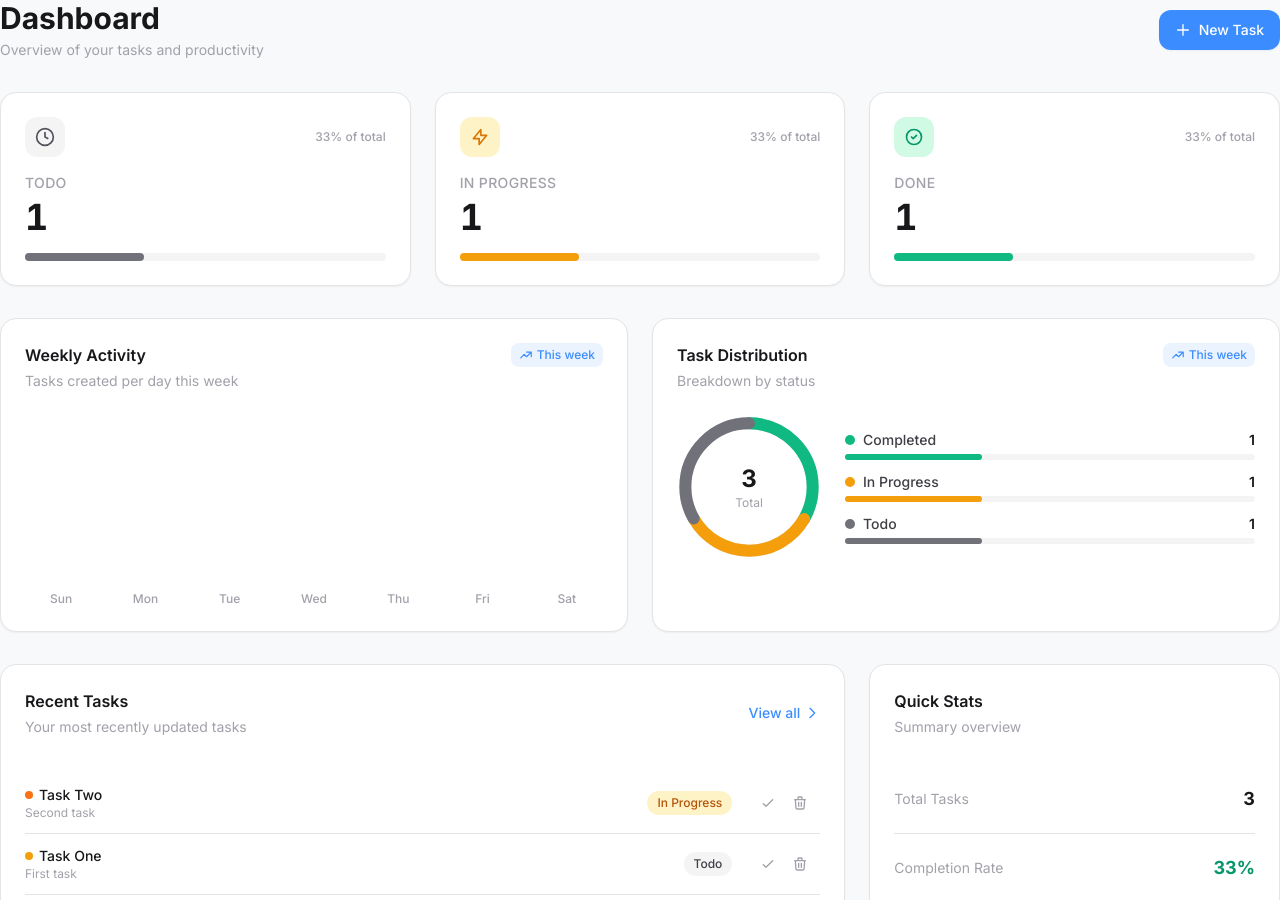
it: Dashboard Component › closes confirmation dialog when cancel is clicked
This screenshot has width=1280, height=900.
Click the button titled "Delete" in the row of "Task Two".
click(800, 803)  # box 786,789 -> 814,817
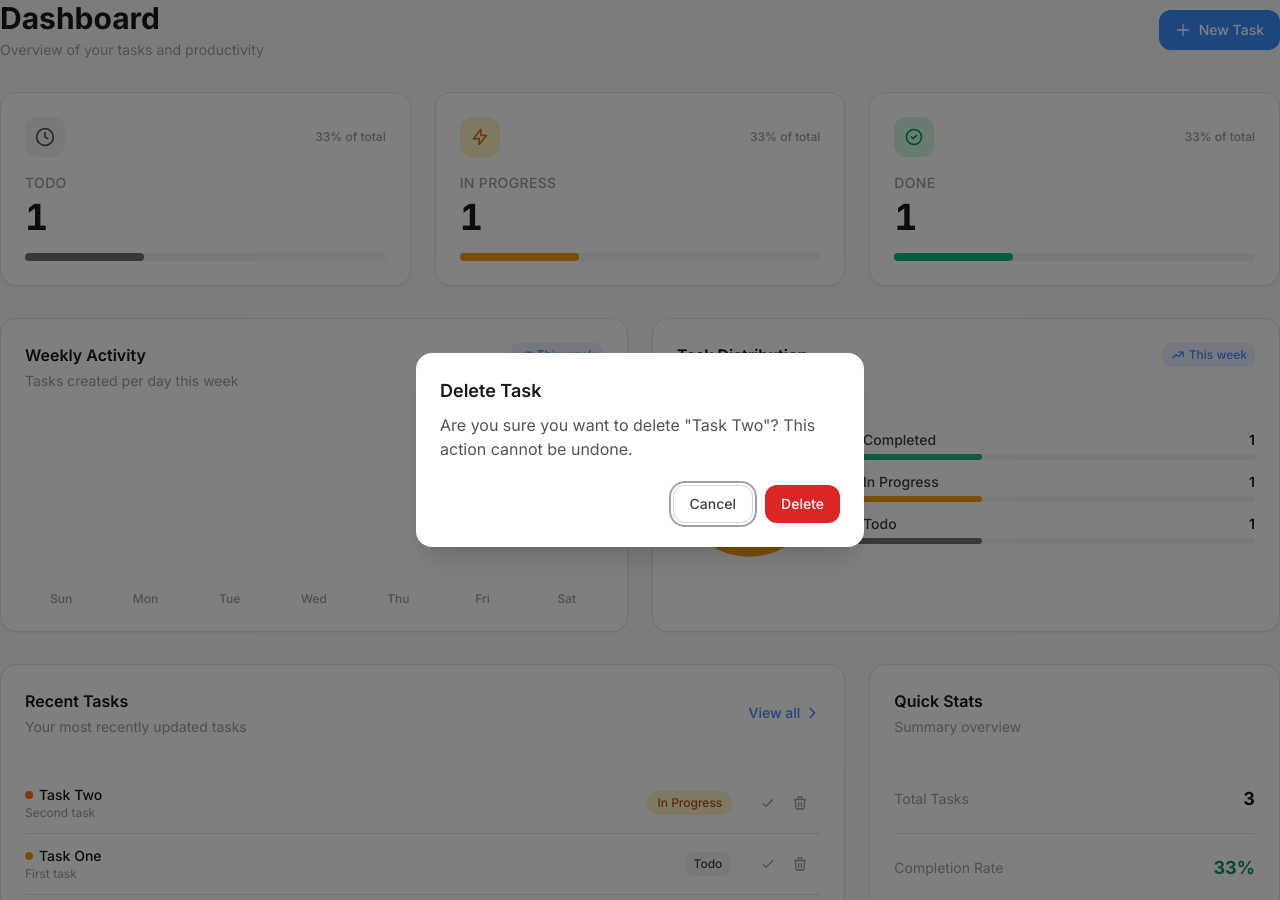
Click the button "Cancel".
click(713, 504)  # box 673,485 -> 753,523
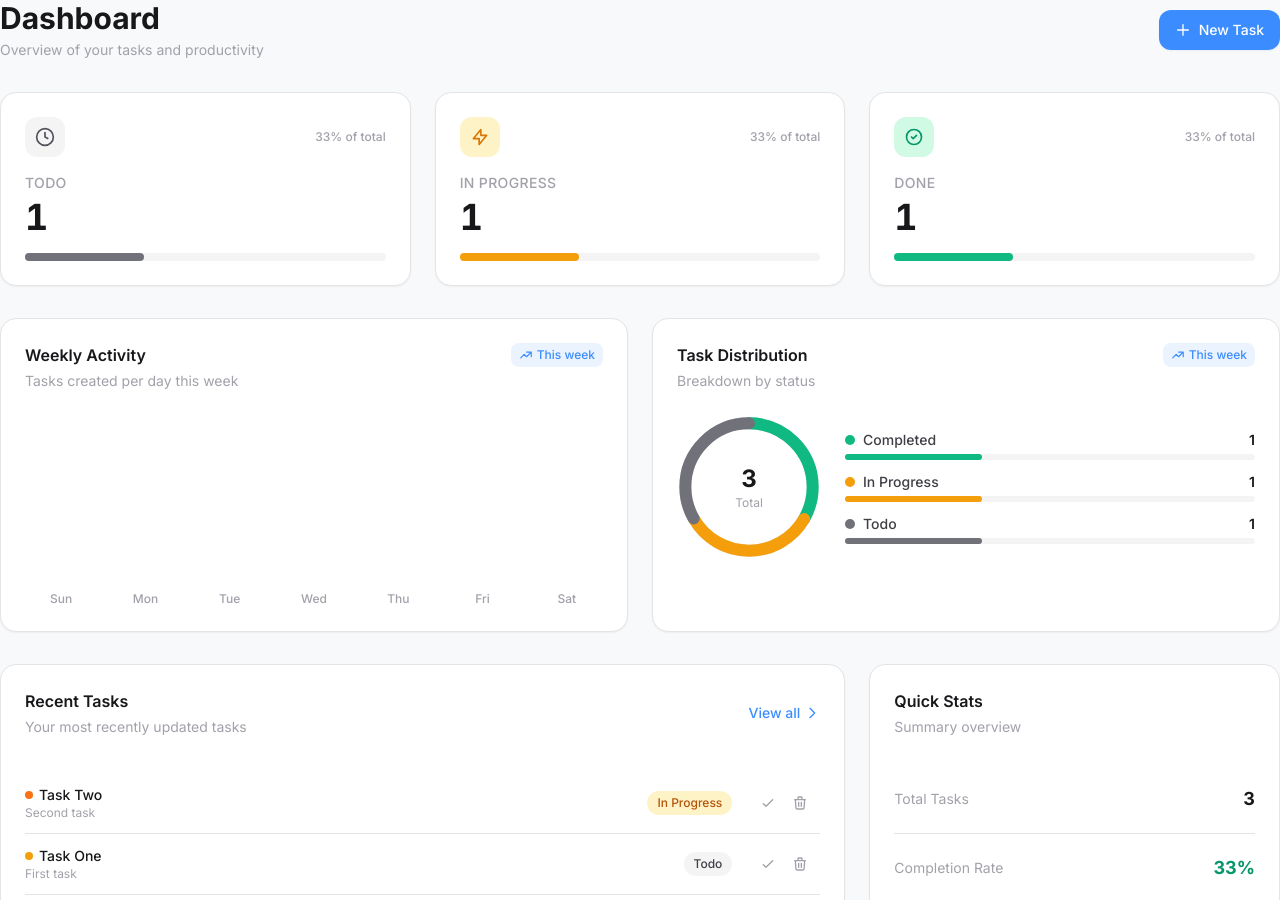
Check: no dialogs are shown
